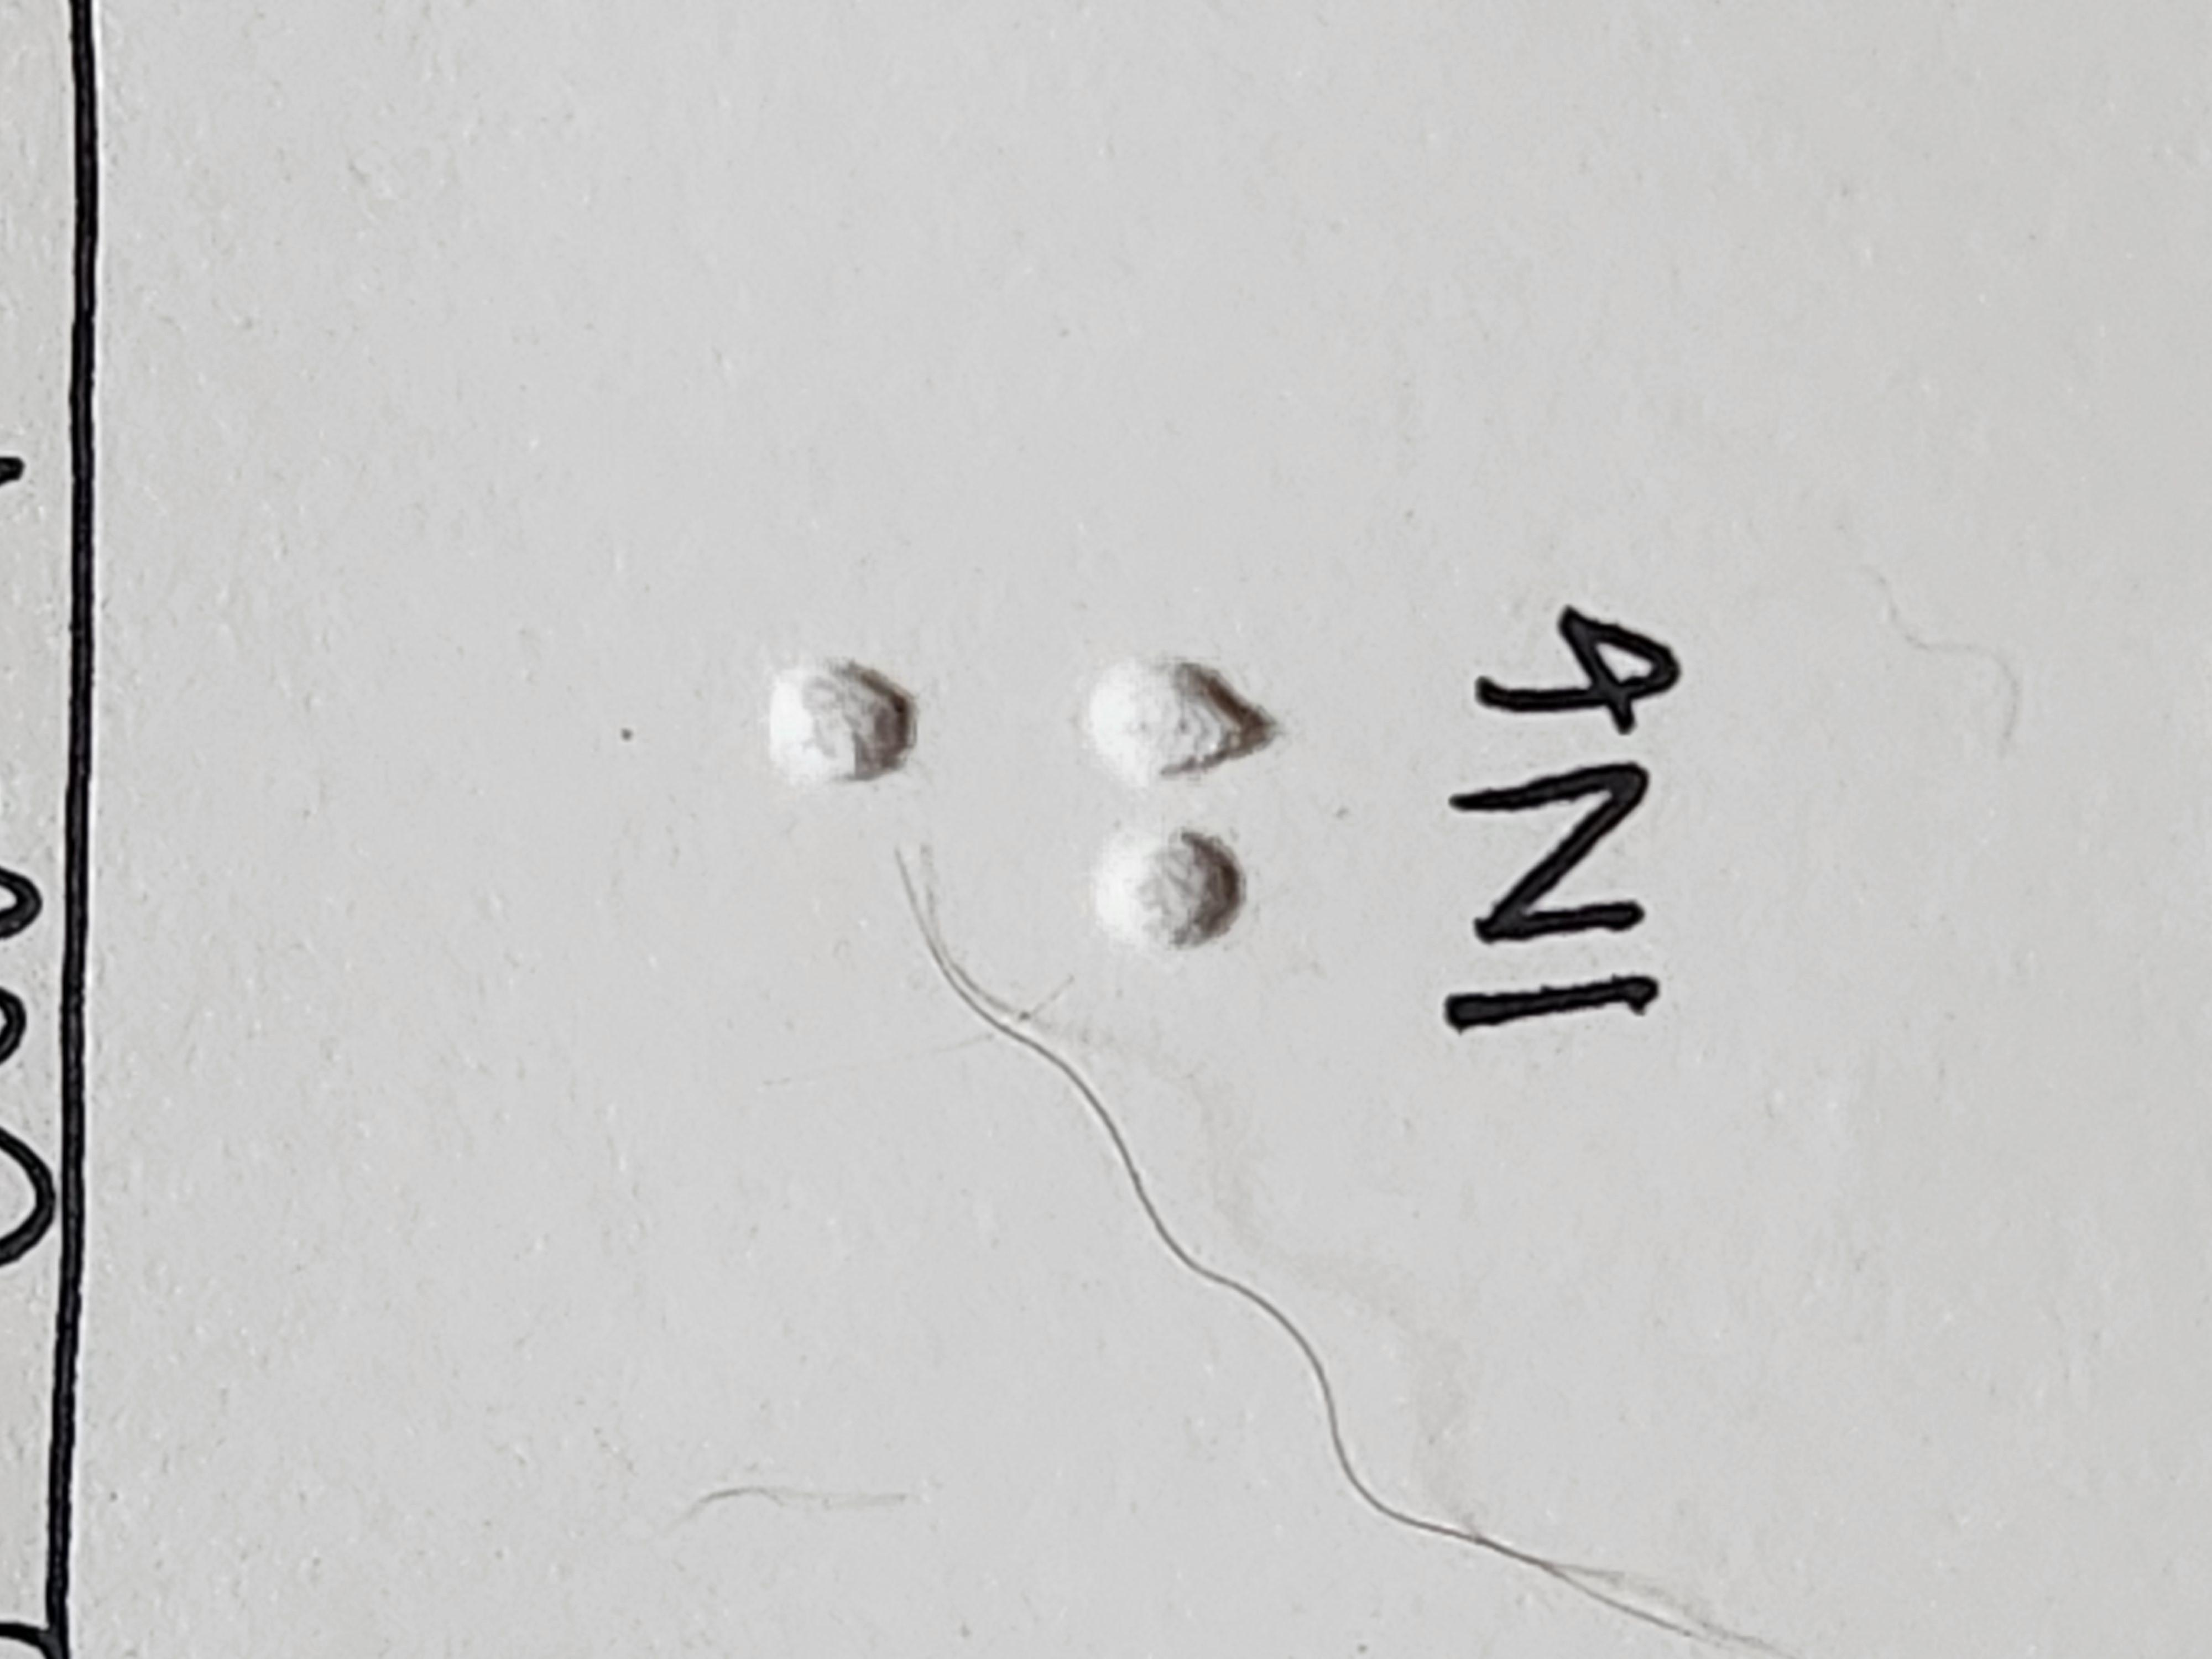one_cell_part_word_ing: (960, 577, 1317, 948)
